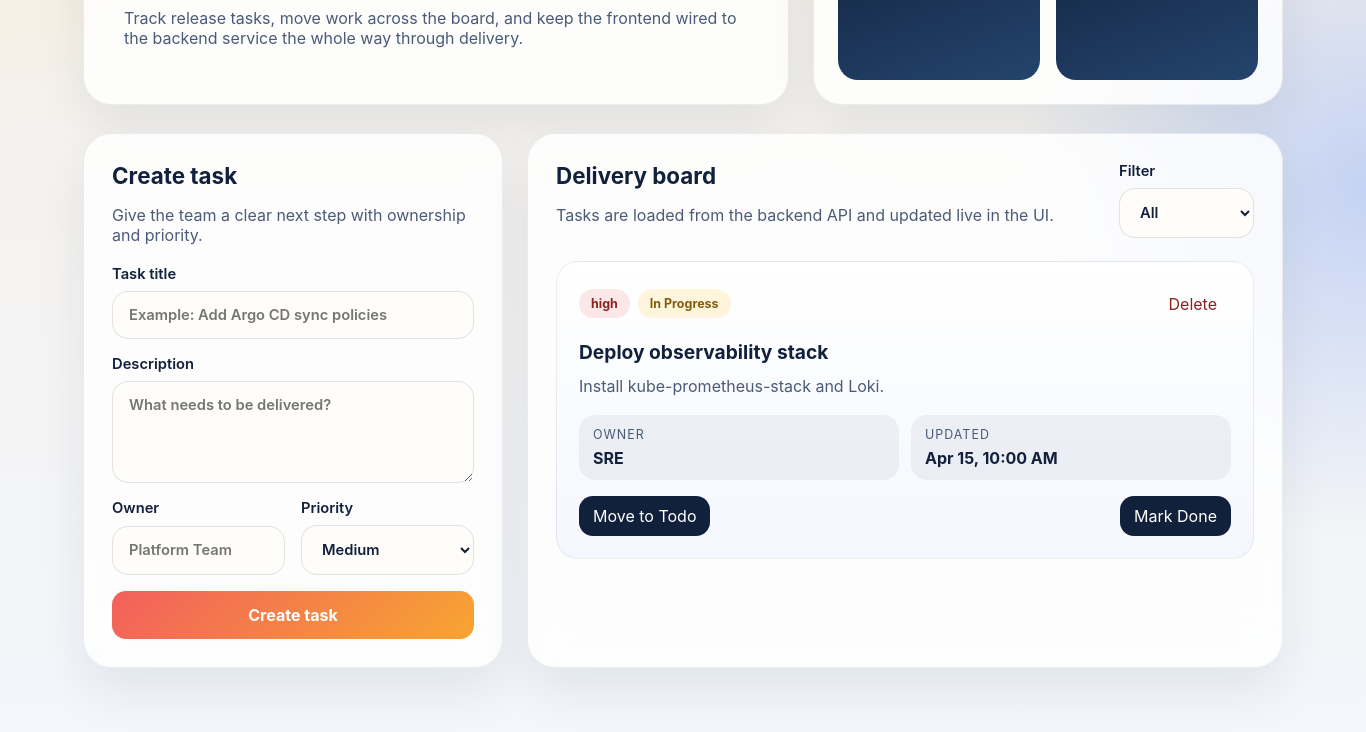
App › updates task status
(page scrolled)
Expected: the heading "Deploy observability stack" is shown, [579, 340, 828, 364]
Click the button "Mark Done": (1176, 516) [1120, 496, 1231, 536]
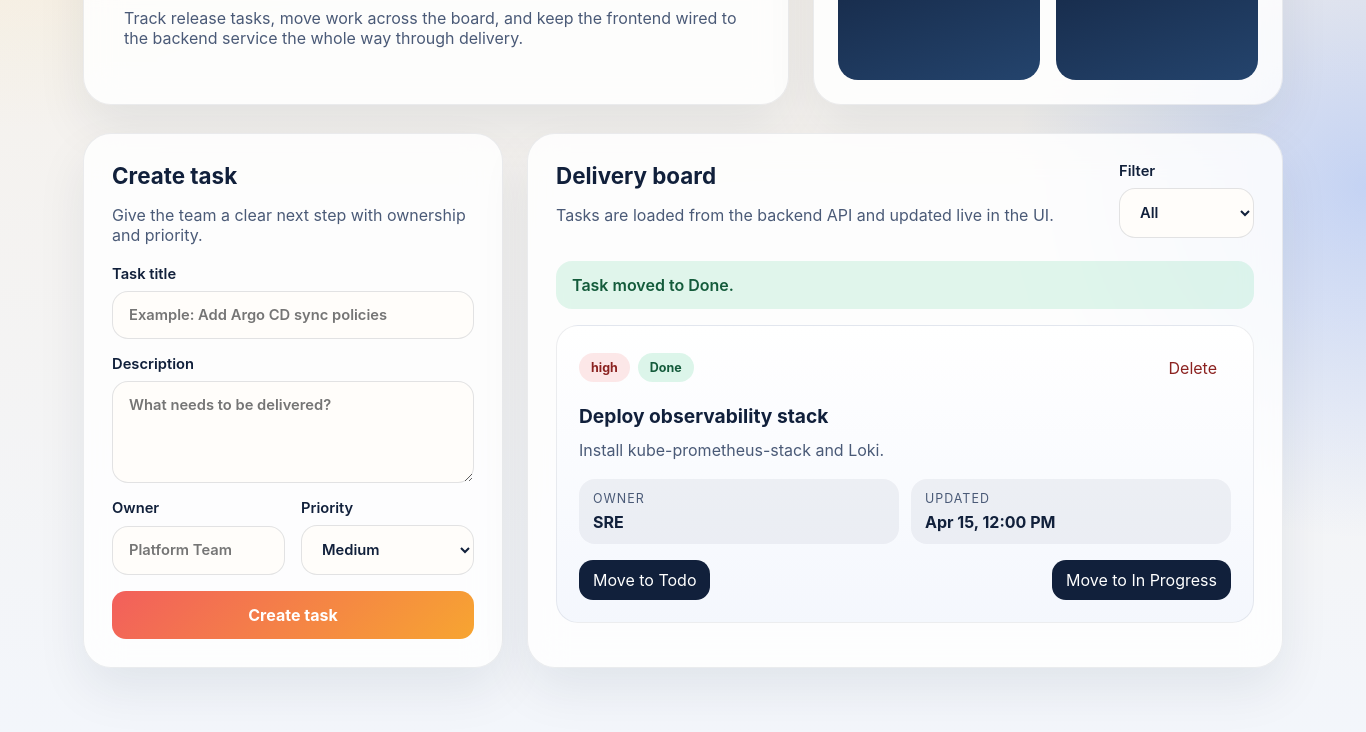
Result: the text "Task moved to Done." is shown at [572, 275, 734, 295]
